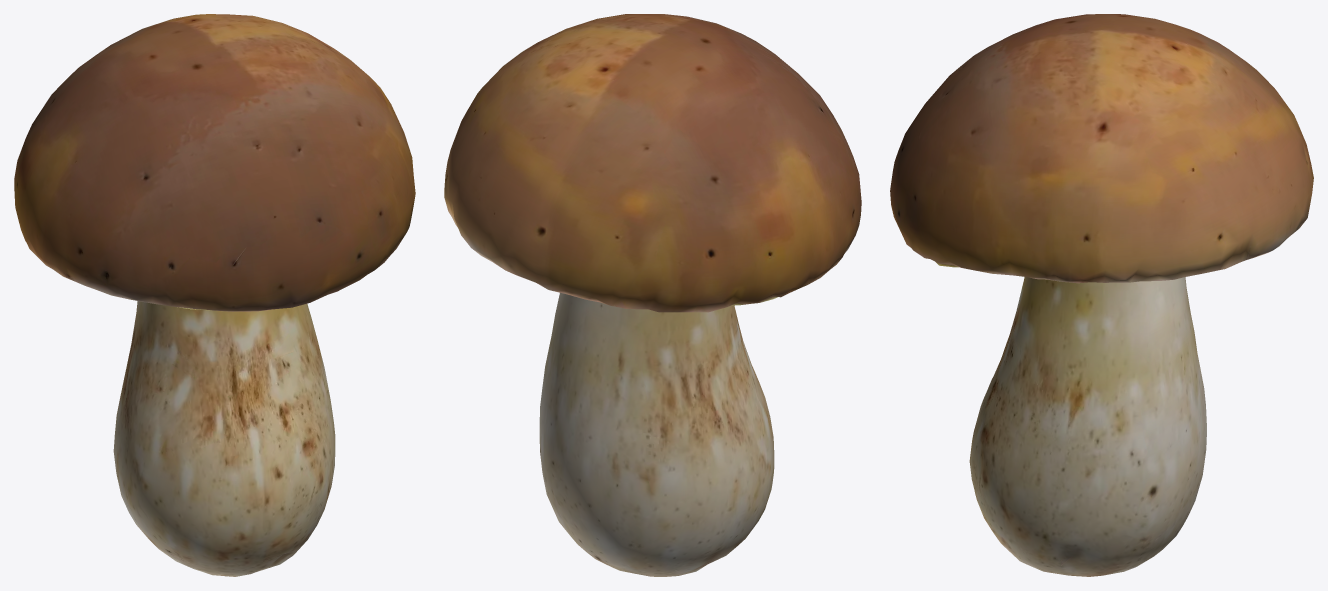
Rendered from white_mushroom_1.glb.
3 renders of one model, left to right at view 1: azimuth 30°, elevation 25°; view 2: azimuth 150°, elevation 25°; view 3: azimuth 270°, elevation 25°, orthographic. The views are drawn at different scales.
Visible parts, largest first — view 1: Object_4; view 2: Object_4; view 3: Object_4.
Boxes of the visible parts, x1,y1,x2,y2 form: Object_4: (14, 14, 415, 576); Object_4: (444, 14, 861, 576); Object_4: (890, 14, 1313, 576).
Bounding box in the file's own units: 1.34 × 1.91 × 1.38.
1 material, 1 textured.
